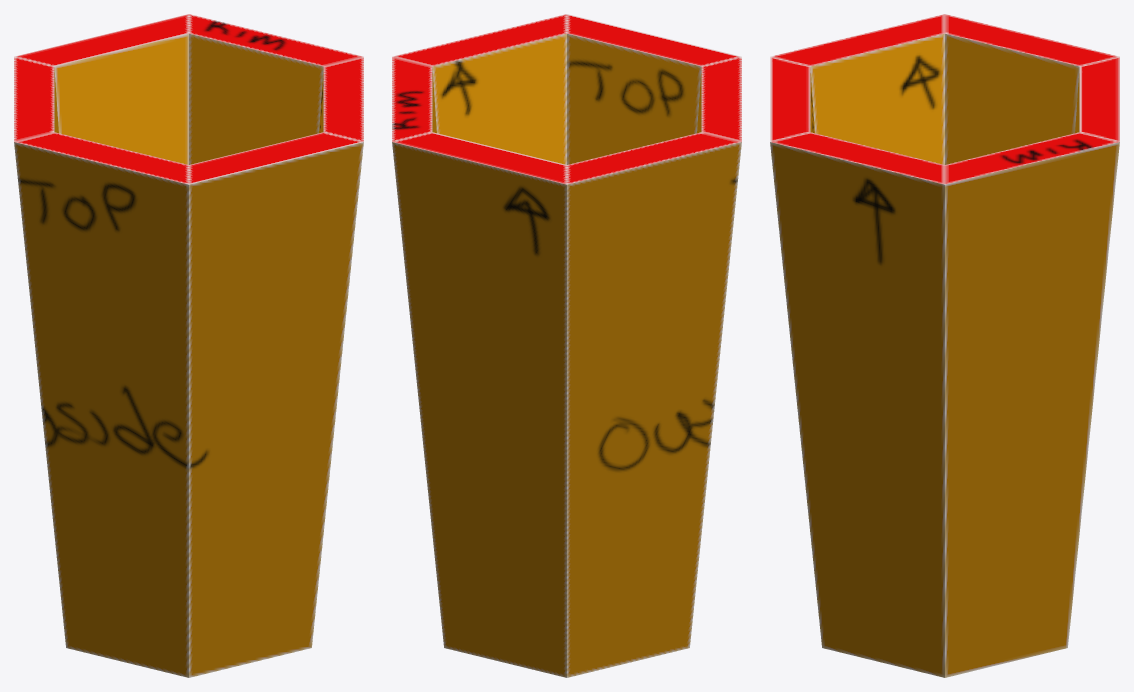
The model's file is hs_cup.fbx.
The picture shows the model from 3 angles, left to right: view 1: azimuth 30°, elevation 25°; view 2: azimuth 150°, elevation 25°; view 3: azimuth 270°, elevation 25°; orthographic projection.
Visible parts, largest first — view 1: cup; view 2: cup; view 3: cup.
Boxes of the visible parts, x1,y1,x2,y2 form: cup: [14, 14, 363, 677]; cup: [392, 14, 741, 677]; cup: [770, 14, 1119, 677].
Bounding box in the file's own units: 2 × 2.83 × 1.73.
